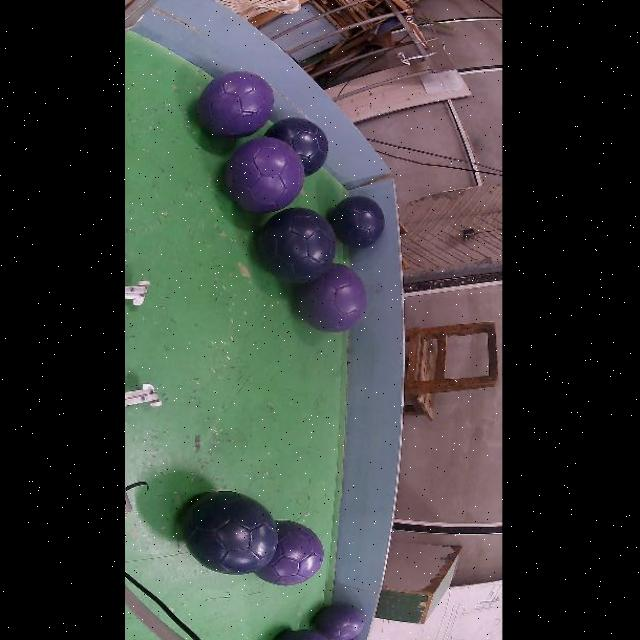B: (181, 491, 277, 575), (257, 207, 336, 284), (264, 118, 327, 176), (328, 196, 383, 248), (275, 630, 327, 640)
P: (223, 137, 303, 213), (196, 71, 273, 138), (295, 263, 365, 332), (253, 521, 323, 586), (311, 605, 362, 640)
